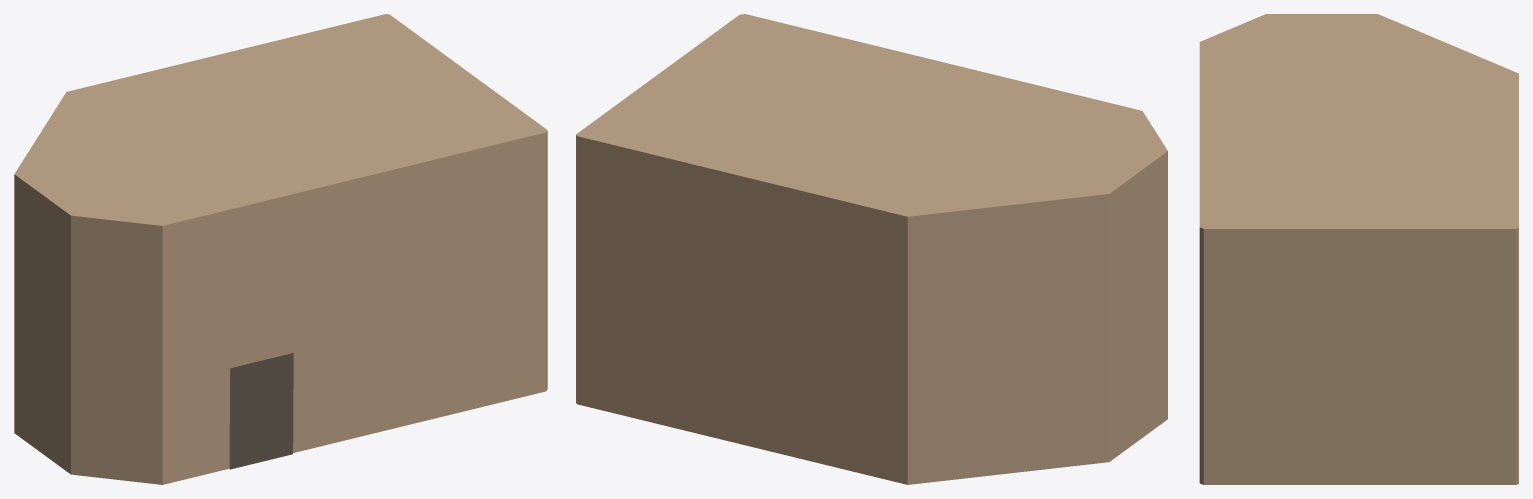
File: loin-etape-1.glb
3 renders of one model, left to right at view 1: azimuth 30°, elevation 25°; view 2: azimuth 150°, elevation 25°; view 3: azimuth 270°, elevation 25°, orthographic. The views are drawn at different scales.
Parts seen in each view (by area): view 1: loin; view 2: loin; view 3: loin.
Part boxes in pixels (box(x1,y1,x2,y2)): loin: box(14, 14, 547, 484); loin: box(576, 14, 1167, 484); loin: box(1199, 14, 1518, 484).
Size of the model in its own units: 0.8725 by 0.485 by 0.554.
